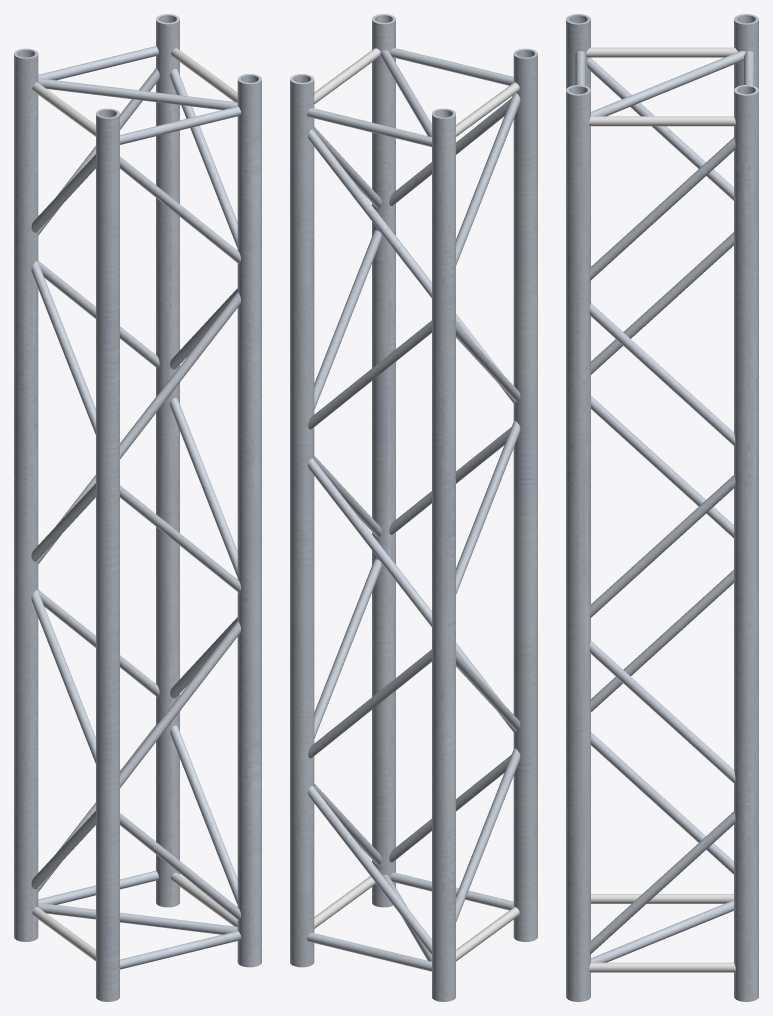
Rendered from Prolyte_H40V_2_00m-ucc41721.glb.
3 views of the same model, side by side, from view 1: azimuth 30°, elevation 25°; view 2: azimuth 150°, elevation 25°; view 3: azimuth 270°, elevation 25° (orthographic). The views are drawn at different scales.
Parts seen in each view (by area): view 1: Geom3D (×2); view 2: Geom3D (×2); view 3: Geom3D (×2).
Boxes of the visible parts, left/top/right/bottom form: Geom3D (×2): left=14, top=14, right=261, bottom=1001; Geom3D (×2): left=290, top=14, right=537, bottom=1001; Geom3D (×2): left=566, top=14, right=758, bottom=1001.
Bounding box in the file's own units: 0.3859 × 2 × 0.3858.
2 materials, 1 textured.
